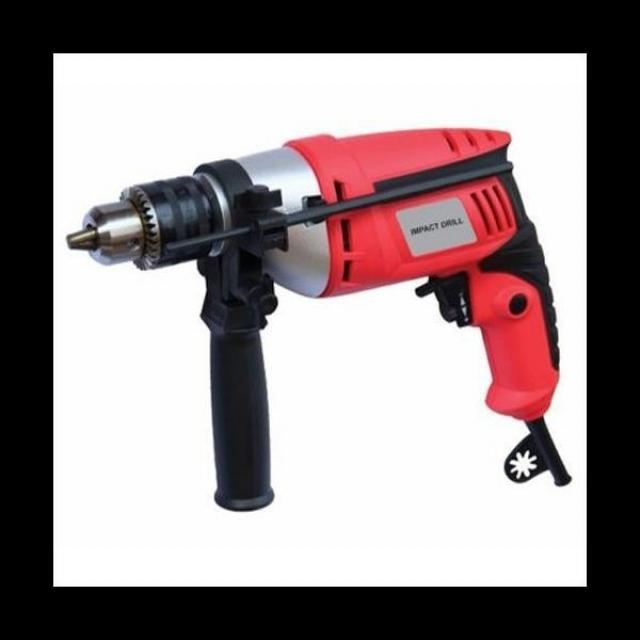drill: (66, 127, 574, 516)
